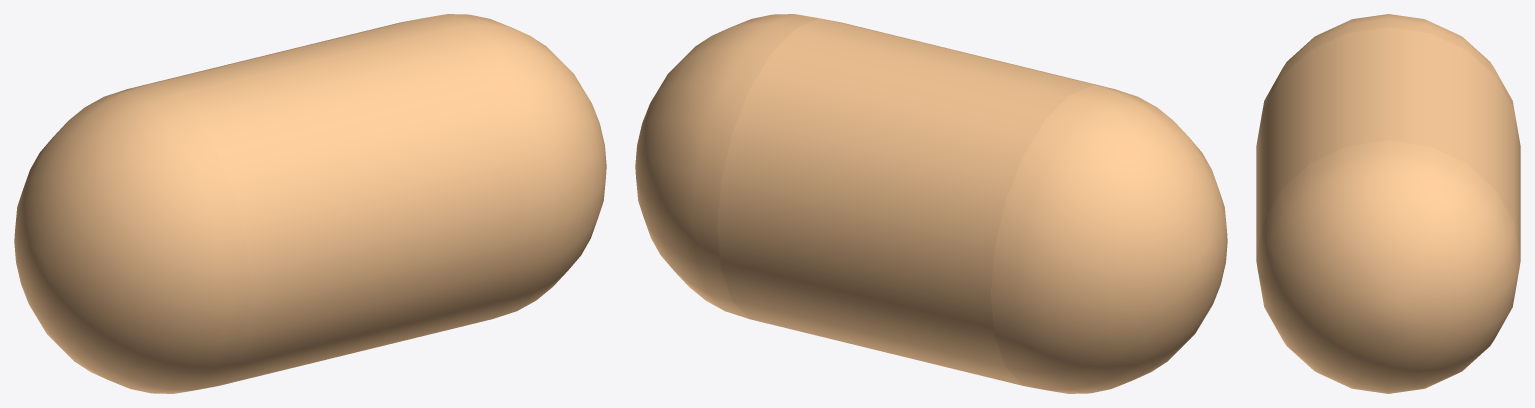
File: player_arm.obj
3 renders of one model, left to right at view 1: azimuth 30°, elevation 25°; view 2: azimuth 150°, elevation 25°; view 3: azimuth 270°, elevation 25°, orthographic. The views are drawn at different scales.
Visible parts, largest first — view 1: polySurface11; view 2: polySurface11; view 3: polySurface11.
Part boxes in pixels (x1=…): polySurface11: x1=14, y1=14, x2=606, y2=393; polySurface11: x1=635, y1=14, x2=1227, y2=393; polySurface11: x1=1256, y1=14, x2=1520, y2=393.
Bounding box in the file's own units: 1.32 × 0.6476 × 0.6476.
Materials: 1 (1 with a texture image).
